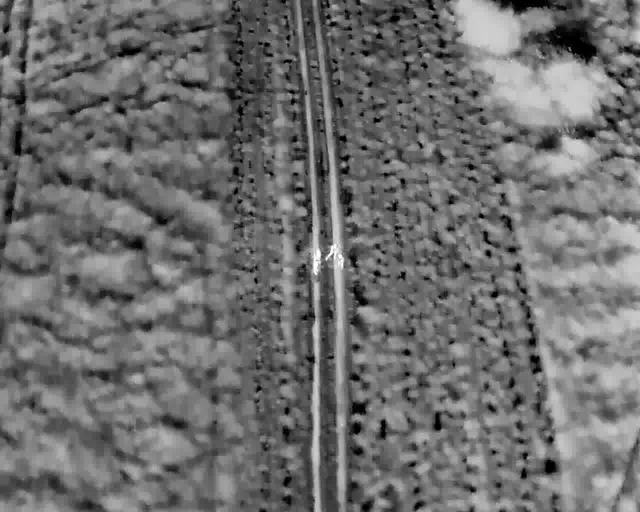person: (324, 243, 339, 261), (310, 255, 320, 276), (335, 252, 345, 270), (311, 247, 321, 265)
